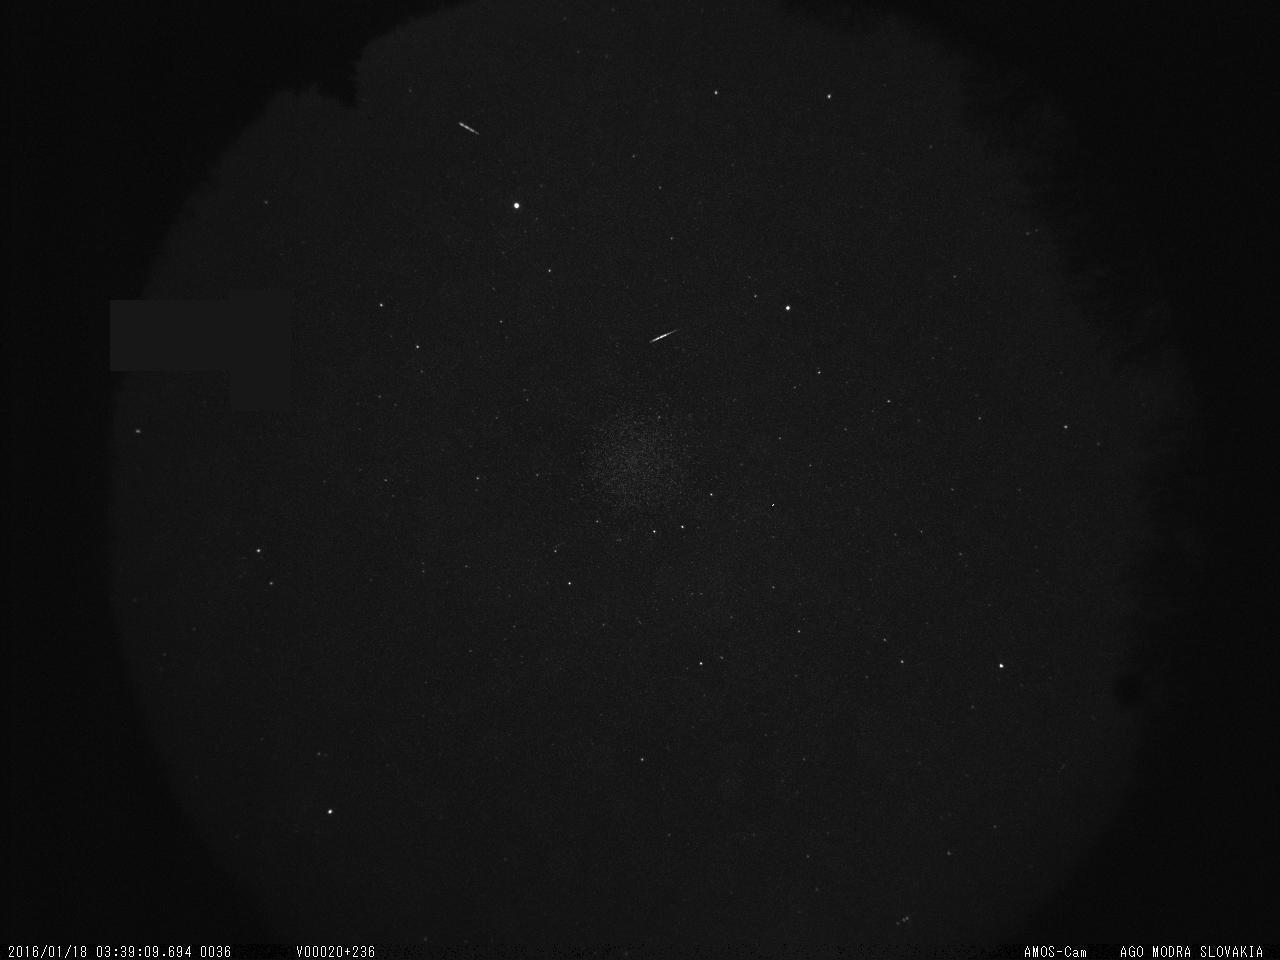meteor: (636, 312, 696, 355)
